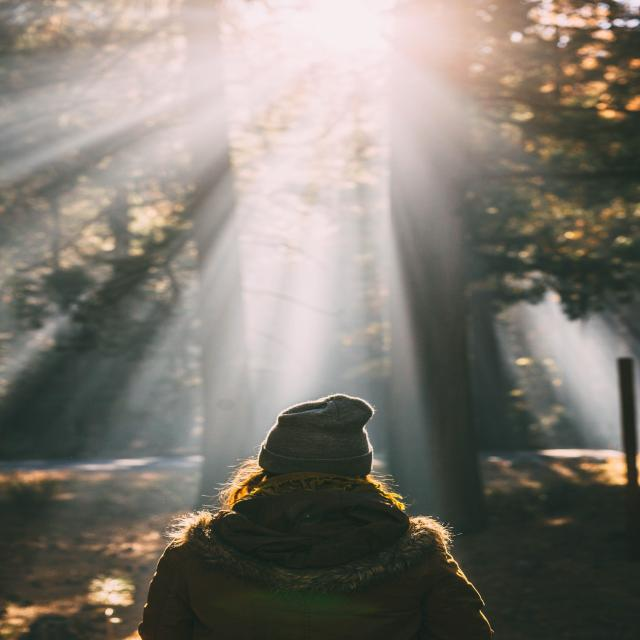adult: (139, 403, 499, 640)
